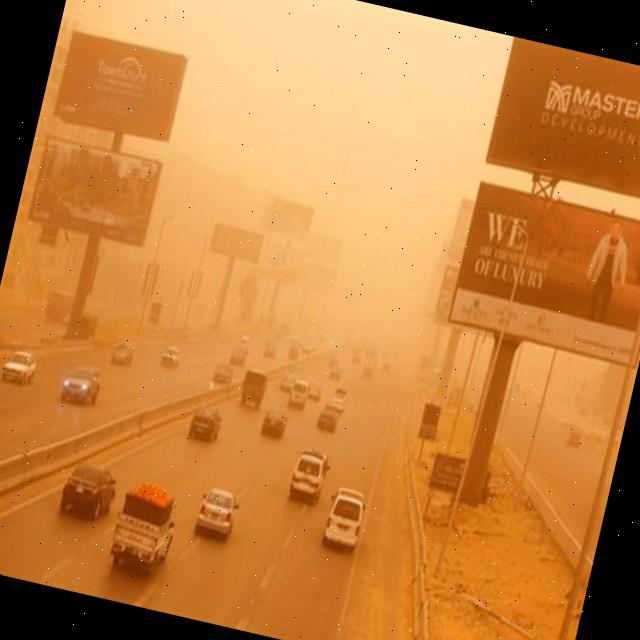bus: (106, 474, 186, 577), (238, 370, 268, 407), (360, 351, 378, 378)
car: (57, 458, 120, 525), (319, 484, 369, 552), (191, 484, 241, 541), (285, 448, 330, 506), (56, 362, 104, 409), (0, 346, 39, 388), (187, 403, 224, 445), (260, 406, 289, 439), (157, 344, 182, 370), (314, 404, 338, 431), (110, 342, 133, 368), (210, 362, 233, 388), (288, 380, 308, 409), (278, 372, 298, 394), (330, 389, 348, 412), (306, 376, 321, 396), (230, 346, 247, 362), (328, 366, 342, 384), (262, 341, 276, 357), (287, 345, 299, 359)
